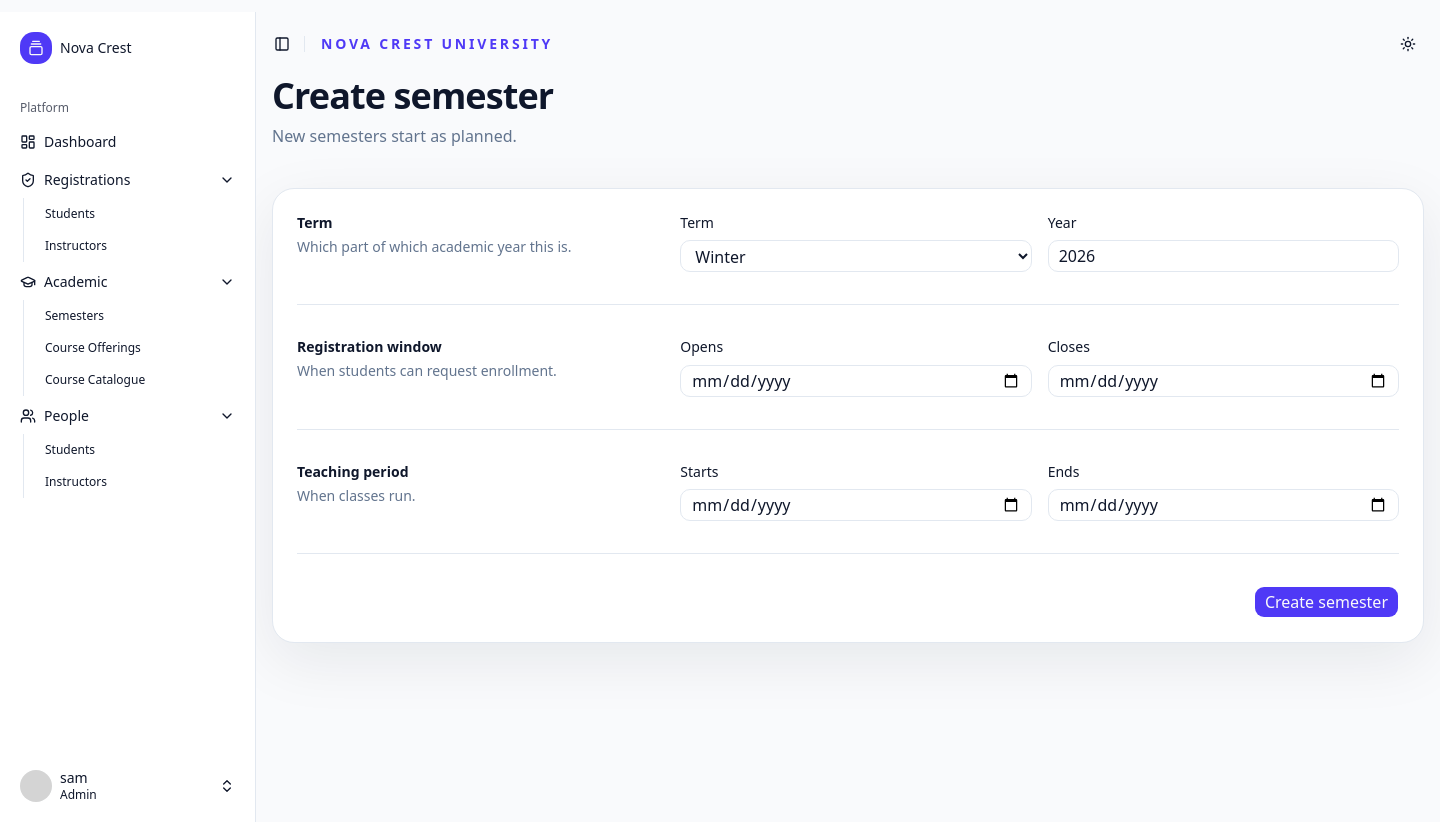
CreateSemesterForm › keeps the form and shows the server message when creation fails
The image size is (1440, 822).
Select "Summer" in the dropdown labelled "Term": {"x": 856, "y": 256} [680,240,1032,272]
Replace the text in the number field labelled "Year" with "2027": {"x": 1223, "y": 256} [1048,240,1399,272]
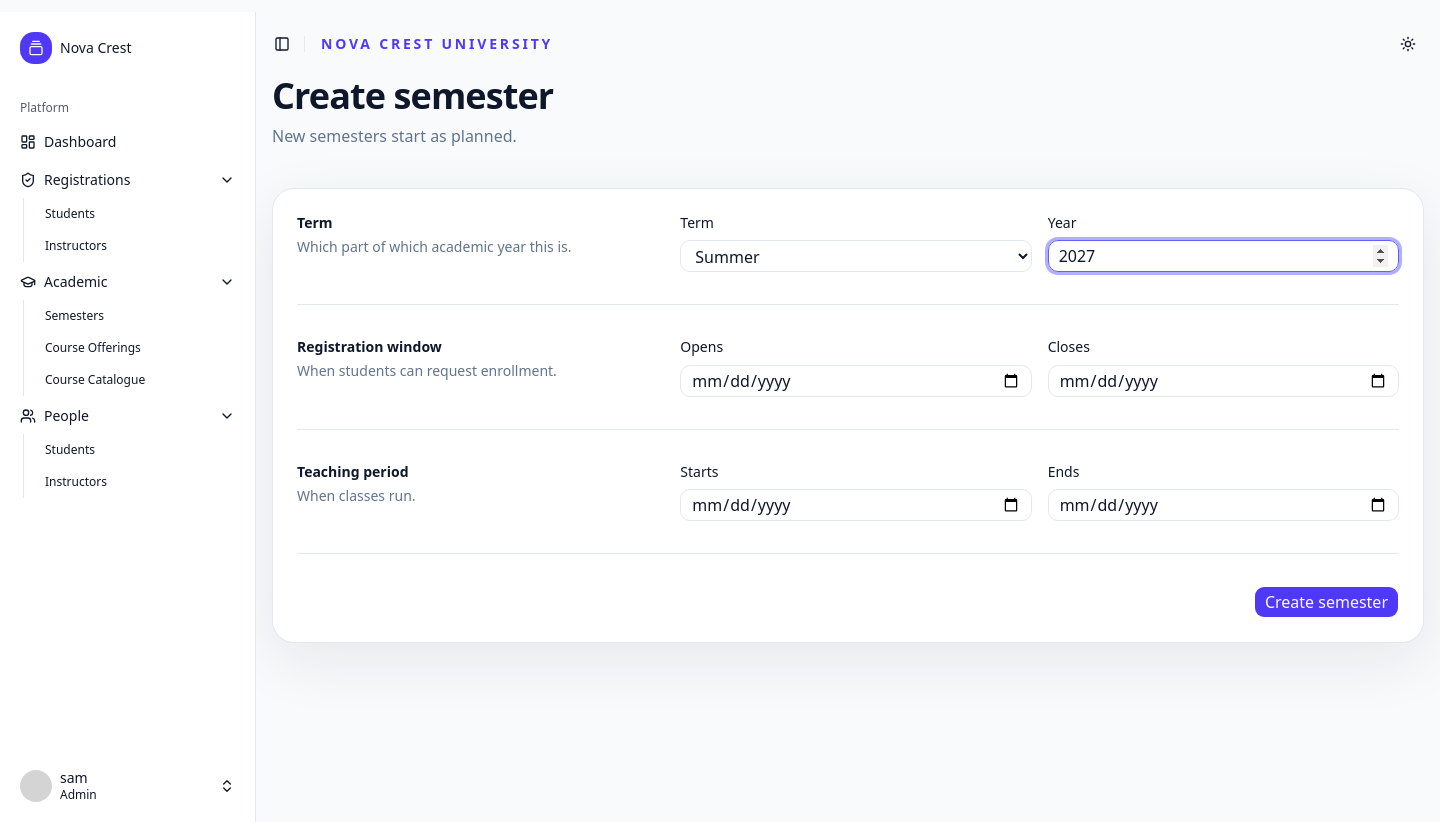
In the date field labelled "Opens": {"x": 856, "y": 380} [680,364,1032,396], type "2027-03-01"
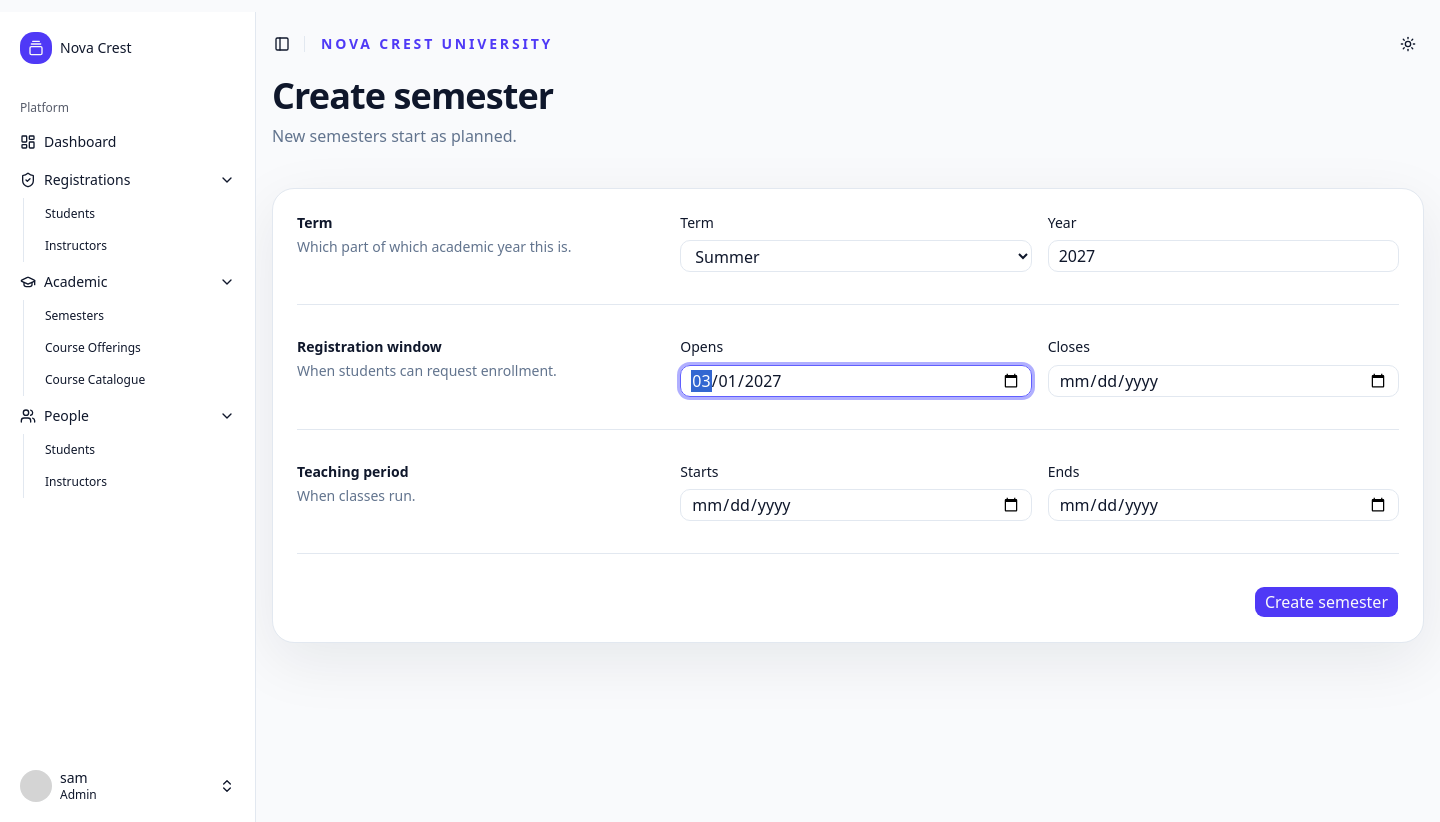
In the date field labelled "Closes": {"x": 1223, "y": 380} [1048,364,1399,396], type "2027-03-15"
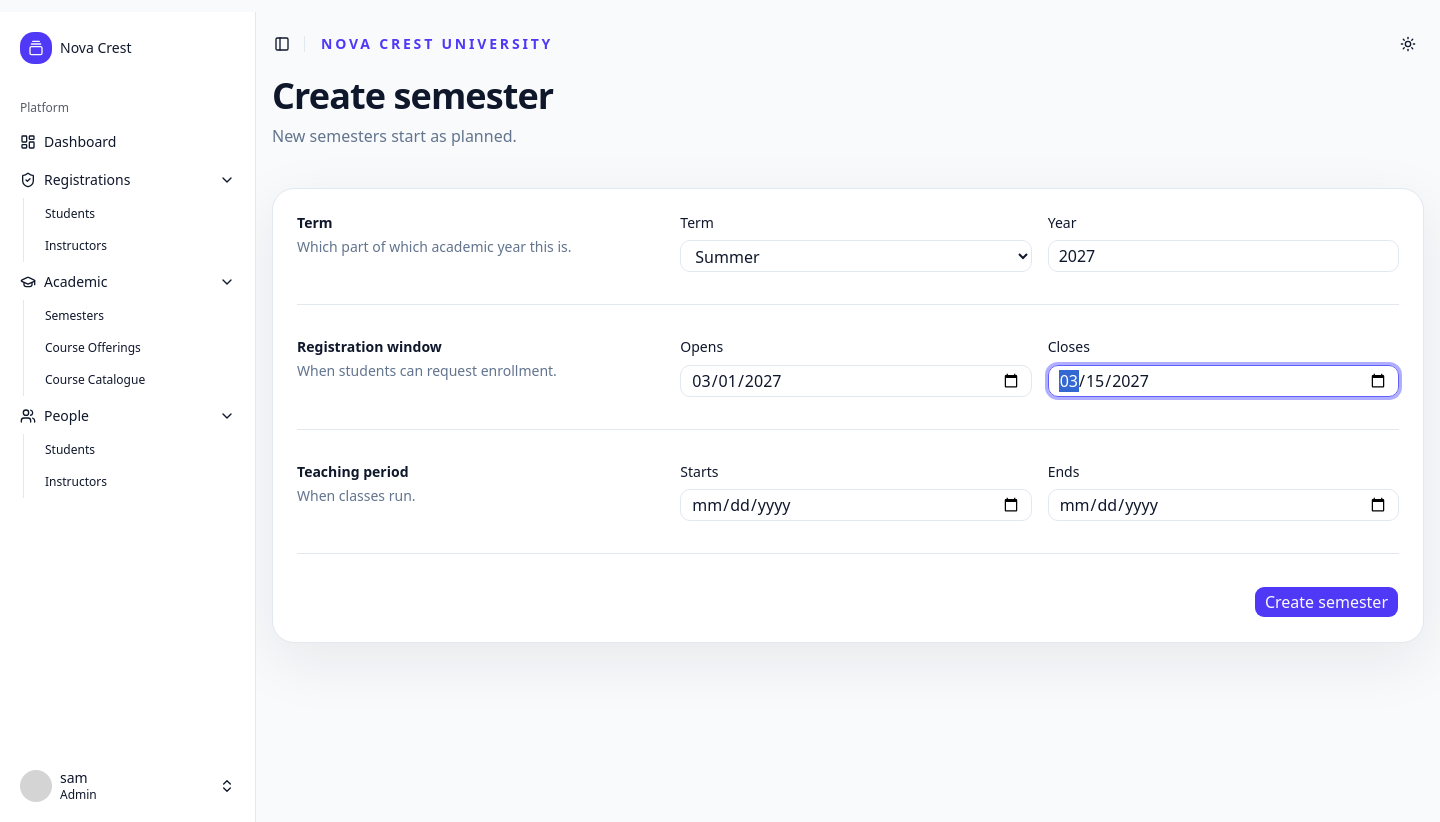
In the date field labelled "Starts": {"x": 856, "y": 505} [680,489,1032,521], type "2027-04-01"
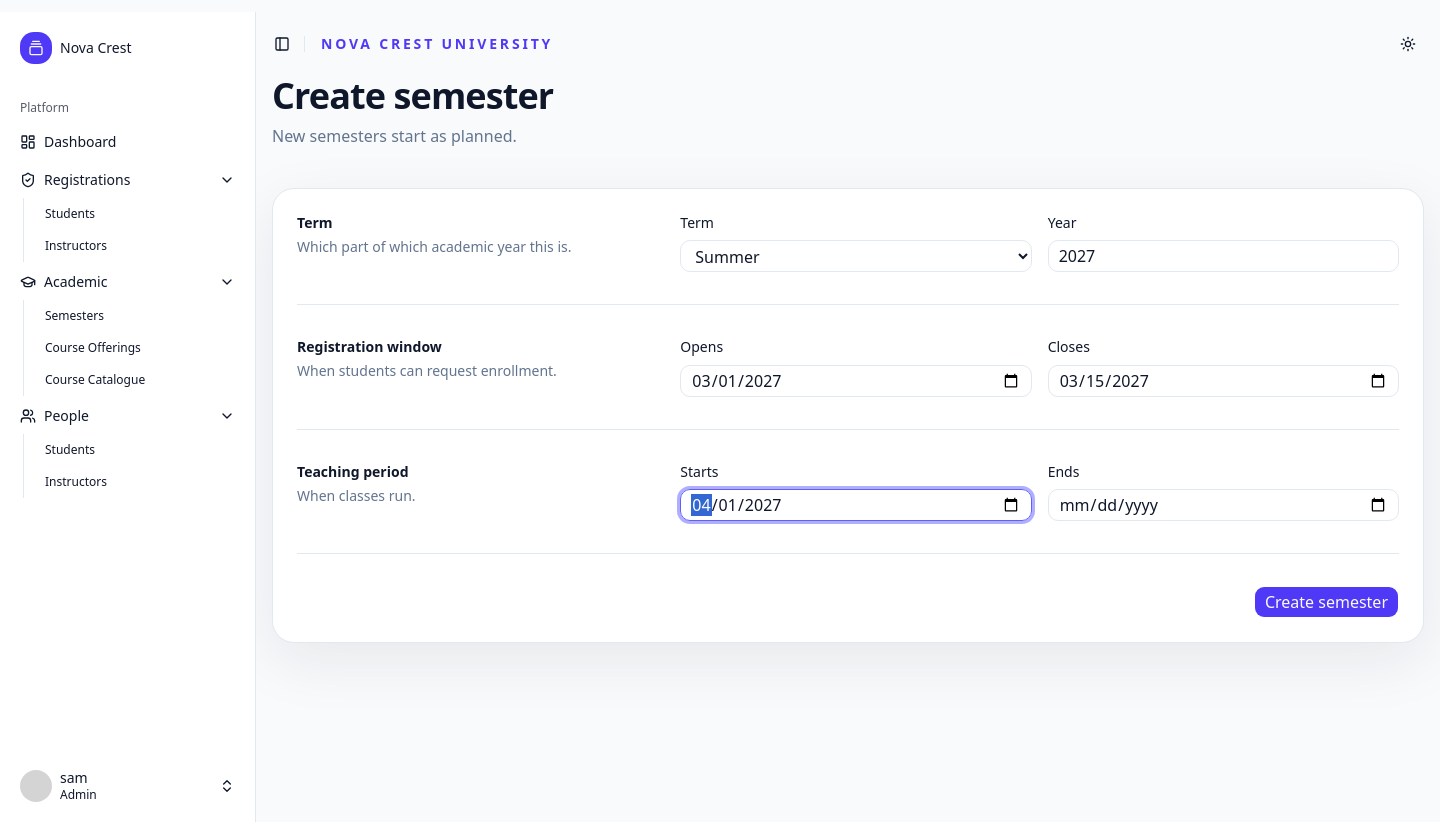
In the date field labelled "Ends": {"x": 1223, "y": 505} [1048,489,1399,521], type "2027-08-31"
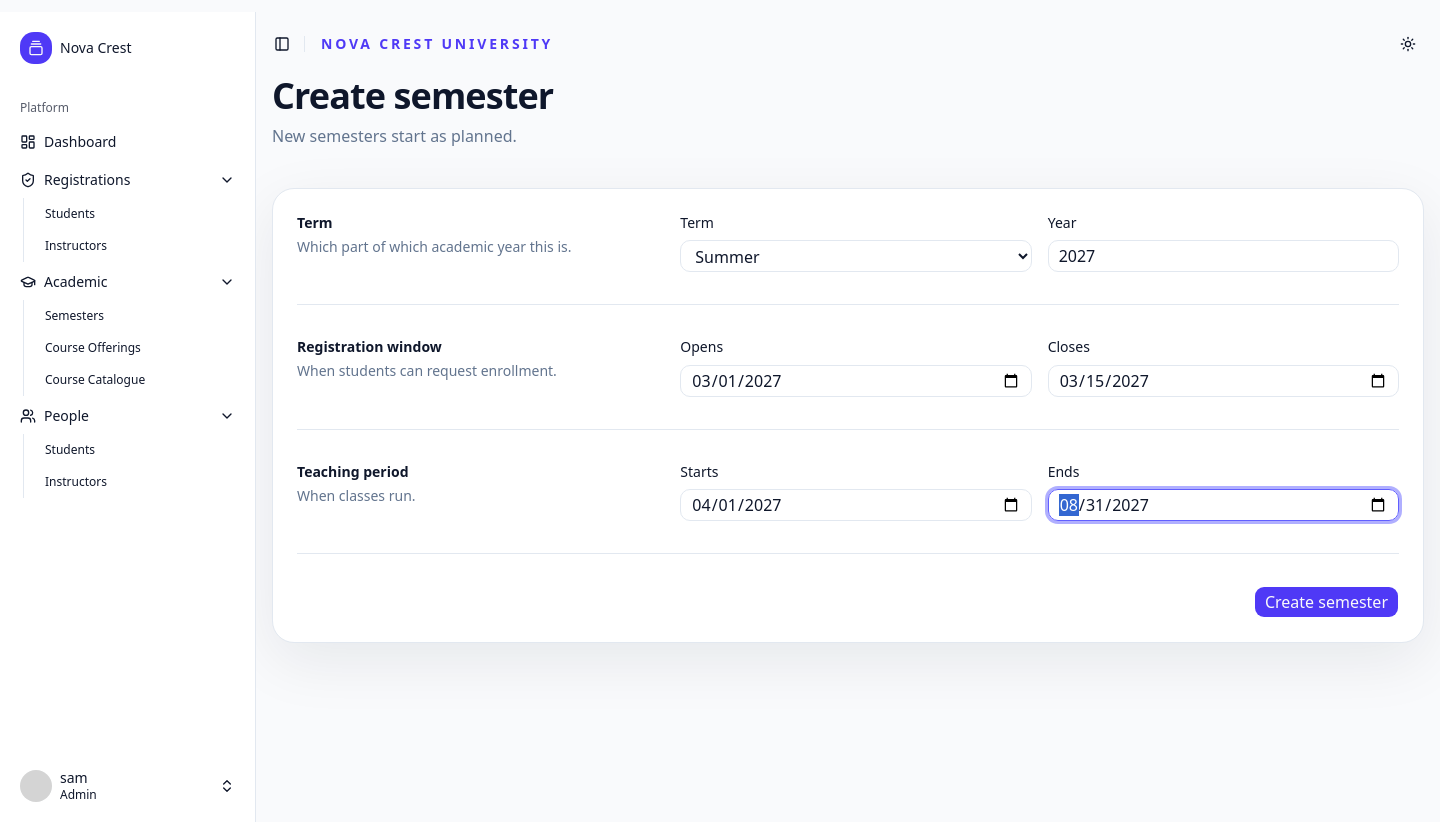
Click the button "Create semester": {"x": 1326, "y": 602} [1254,586,1399,618]
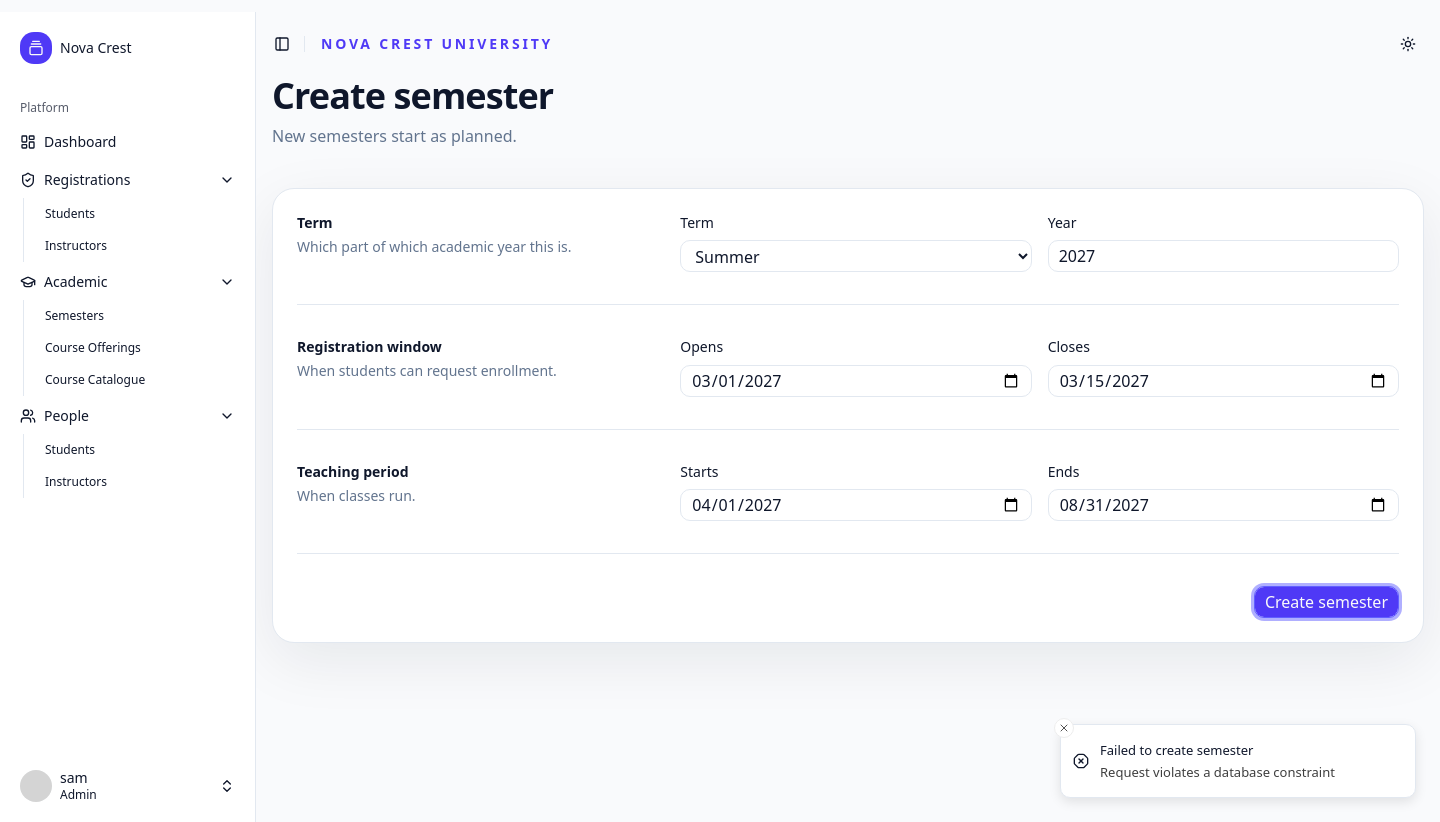
Expected: the text "Failed to create semester" is shown, [1100,741,1254,759]
Expected: the text "Request violates a database constraint" is shown, [1100,763,1335,781]
